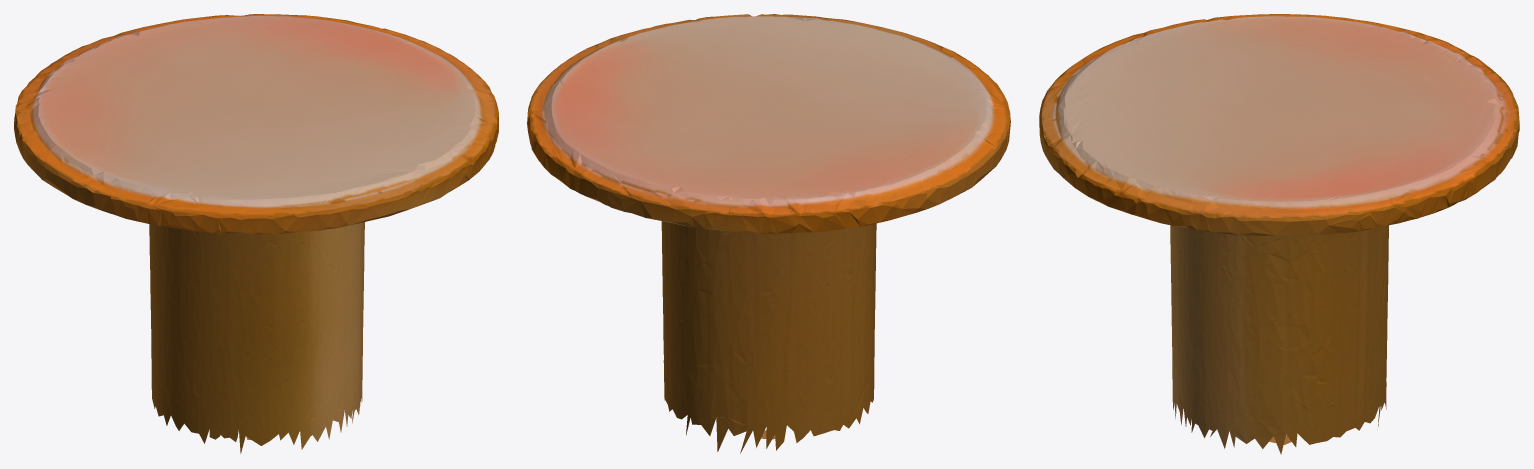
Rendered from hunyuan3d_textured.glb.
3 renders of one model, left to right at view 1: azimuth 30°, elevation 25°; view 2: azimuth 150°, elevation 25°; view 3: azimuth 270°, elevation 25°, orthographic.
Parts seen in each view (by area): view 1: hunyuan3d_textured; view 2: hunyuan3d_textured; view 3: hunyuan3d_textured.
Part boxes in pixels (x1,y1,x2,y2): hunyuan3d_textured: [14, 14, 498, 453]; hunyuan3d_textured: [527, 14, 1010, 453]; hunyuan3d_textured: [1039, 14, 1519, 454].
Bounding box in the file's own units: 0.8708 × 0.6506 × 0.858.
1 material, 1 textured.
